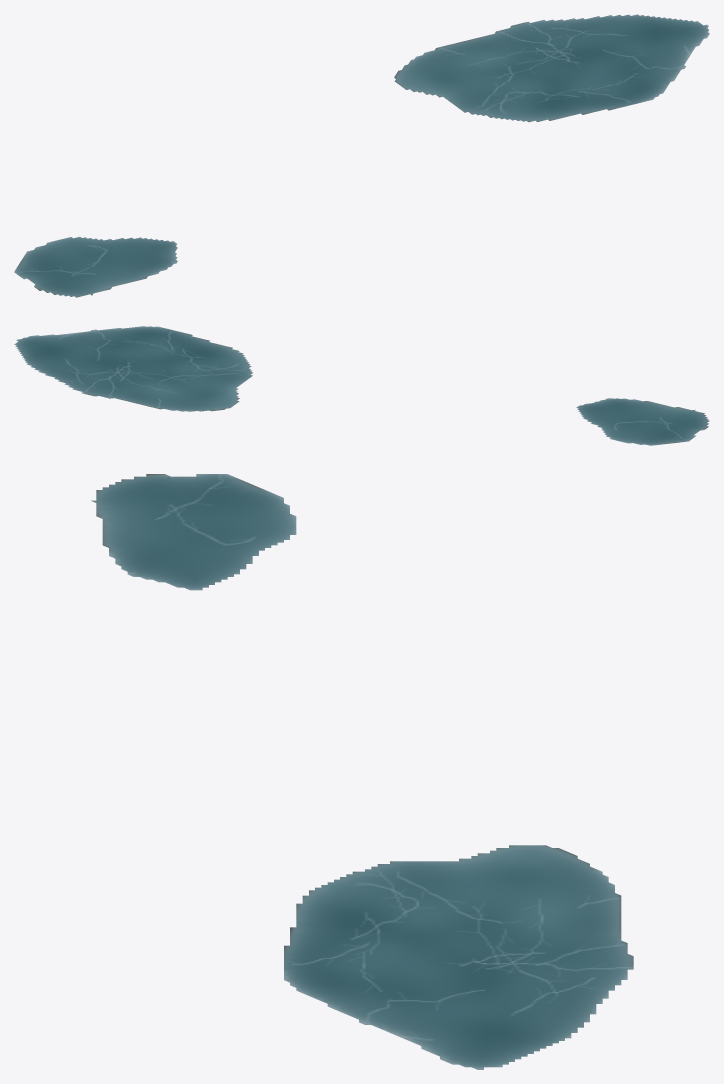
Rendered from ice_visual.dae.
3 views of the same model, one above another, from view 1: azimuth 30°, elevation 25°; view 2: azimuth 150°, elevation 25°; view 3: azimuth 270°, elevation 25° (orthographic). The views are drawn at different scales.
Parts seen in each view (by area): view 1: Terrain; view 2: Terrain; view 3: Terrain.
Part boxes in pixels (x1,y1,x2,y2): Terrain: (14, 14, 709, 297); Terrain: (14, 326, 709, 445); Terrain: (91, 474, 633, 1069).
Size of the model in its own units: 562 by 218 by 0.7.
Materials: 1 (1 with a texture image).
